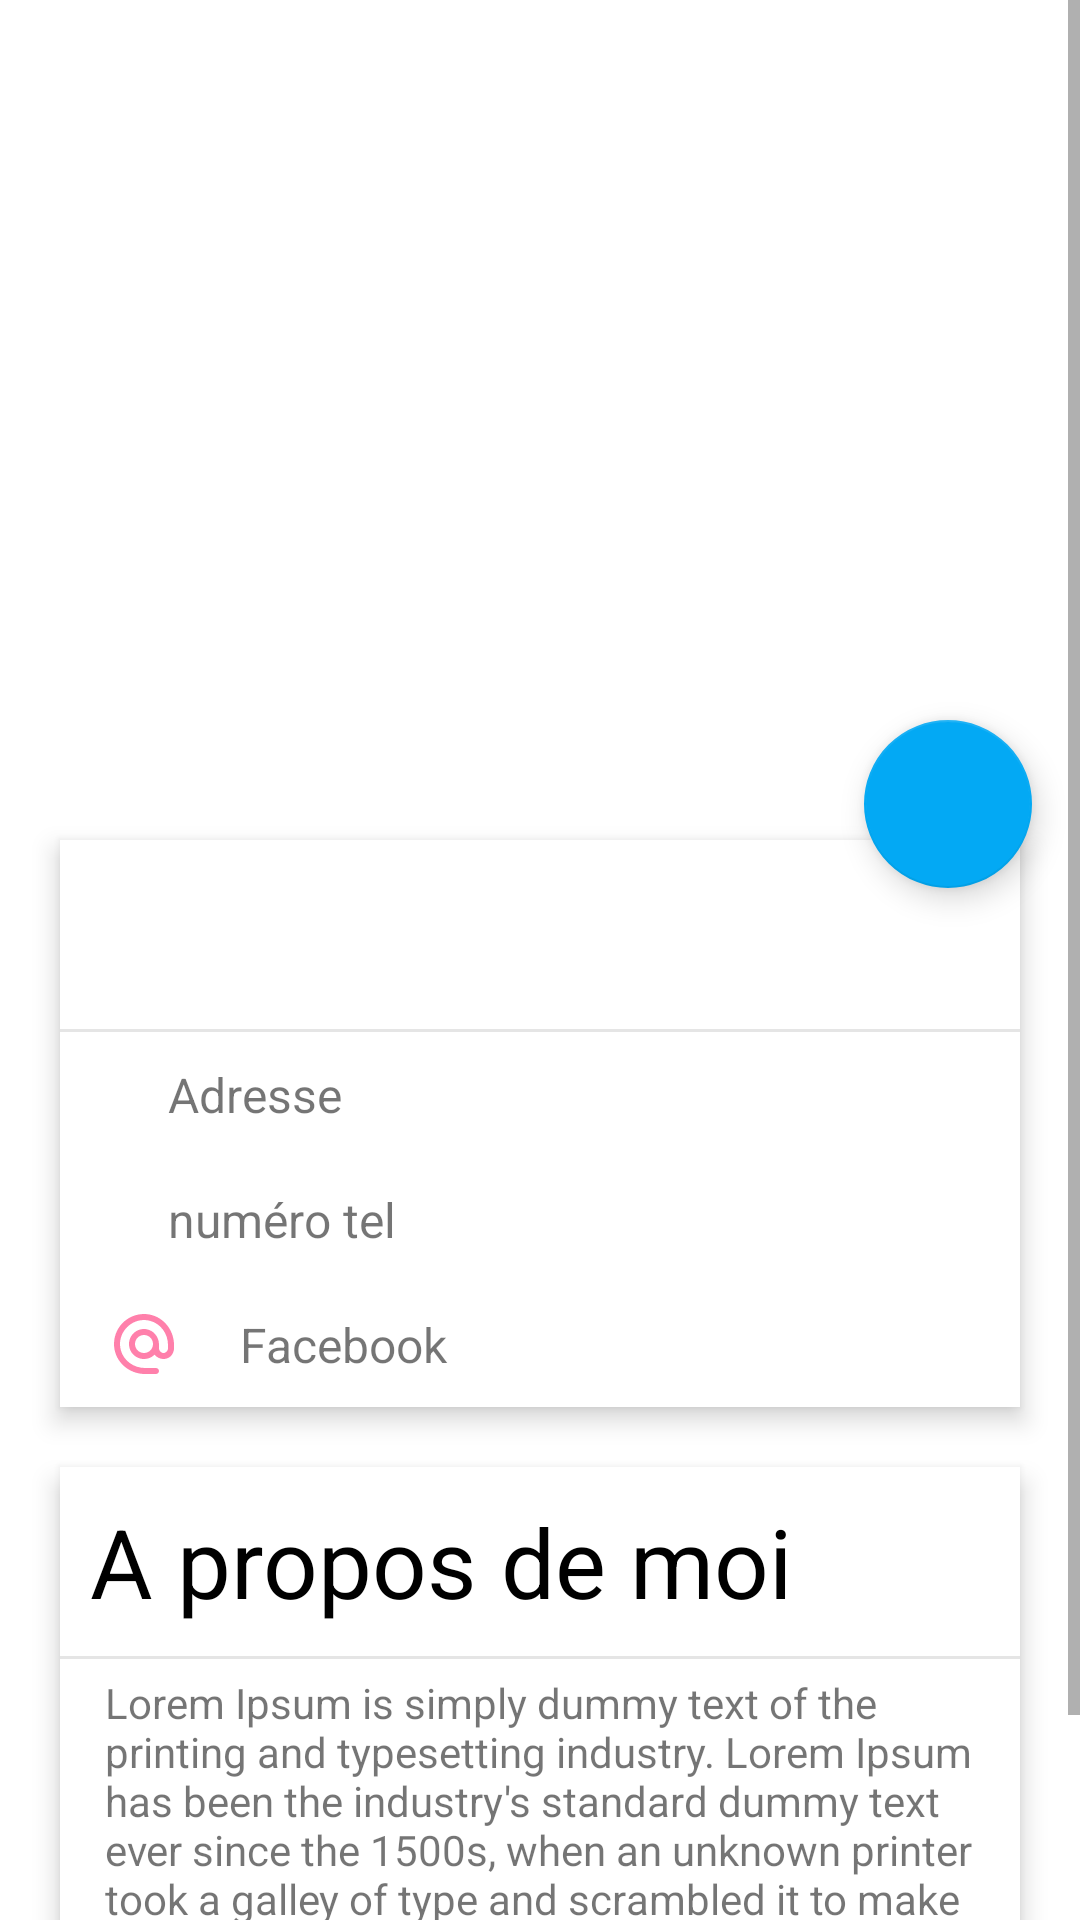

Screen size 1080w x 1920h. Icon name, then its center in pixels as [x,y]:
alternate email: [144,1344]
